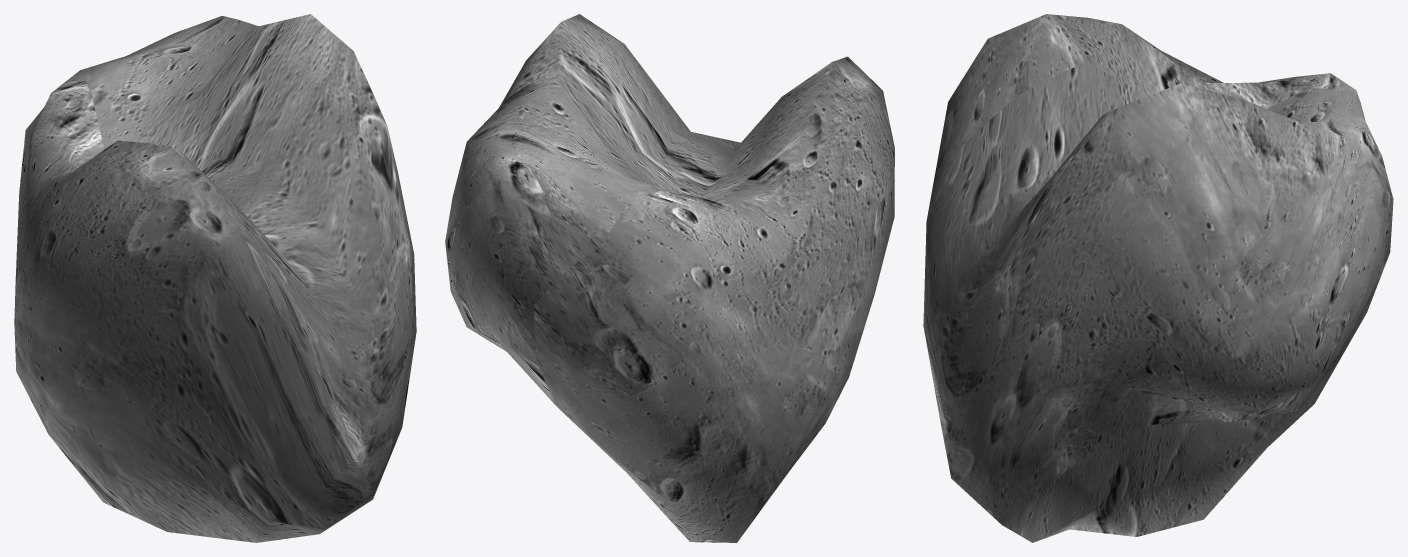
Rendered from asteroid03.FBX.
The picture shows the model from 3 angles, left to right: view 1: azimuth 30°, elevation 25°; view 2: azimuth 150°, elevation 25°; view 3: azimuth 270°, elevation 25°; orthographic projection. The views are drawn at different scales.
Parts seen in each view (by area): view 1: Asteroid003; view 2: Asteroid003; view 3: Asteroid003.
Part boxes in pixels (<box>): Asteroid003: <box>14,14,416,542</box>; Asteroid003: <box>445,14,894,542</box>; Asteroid003: <box>923,14,1393,542</box>.
Bounding box in the file's own units: 99.54 × 126 × 105.
Materials: 1 (1 with a texture image).
